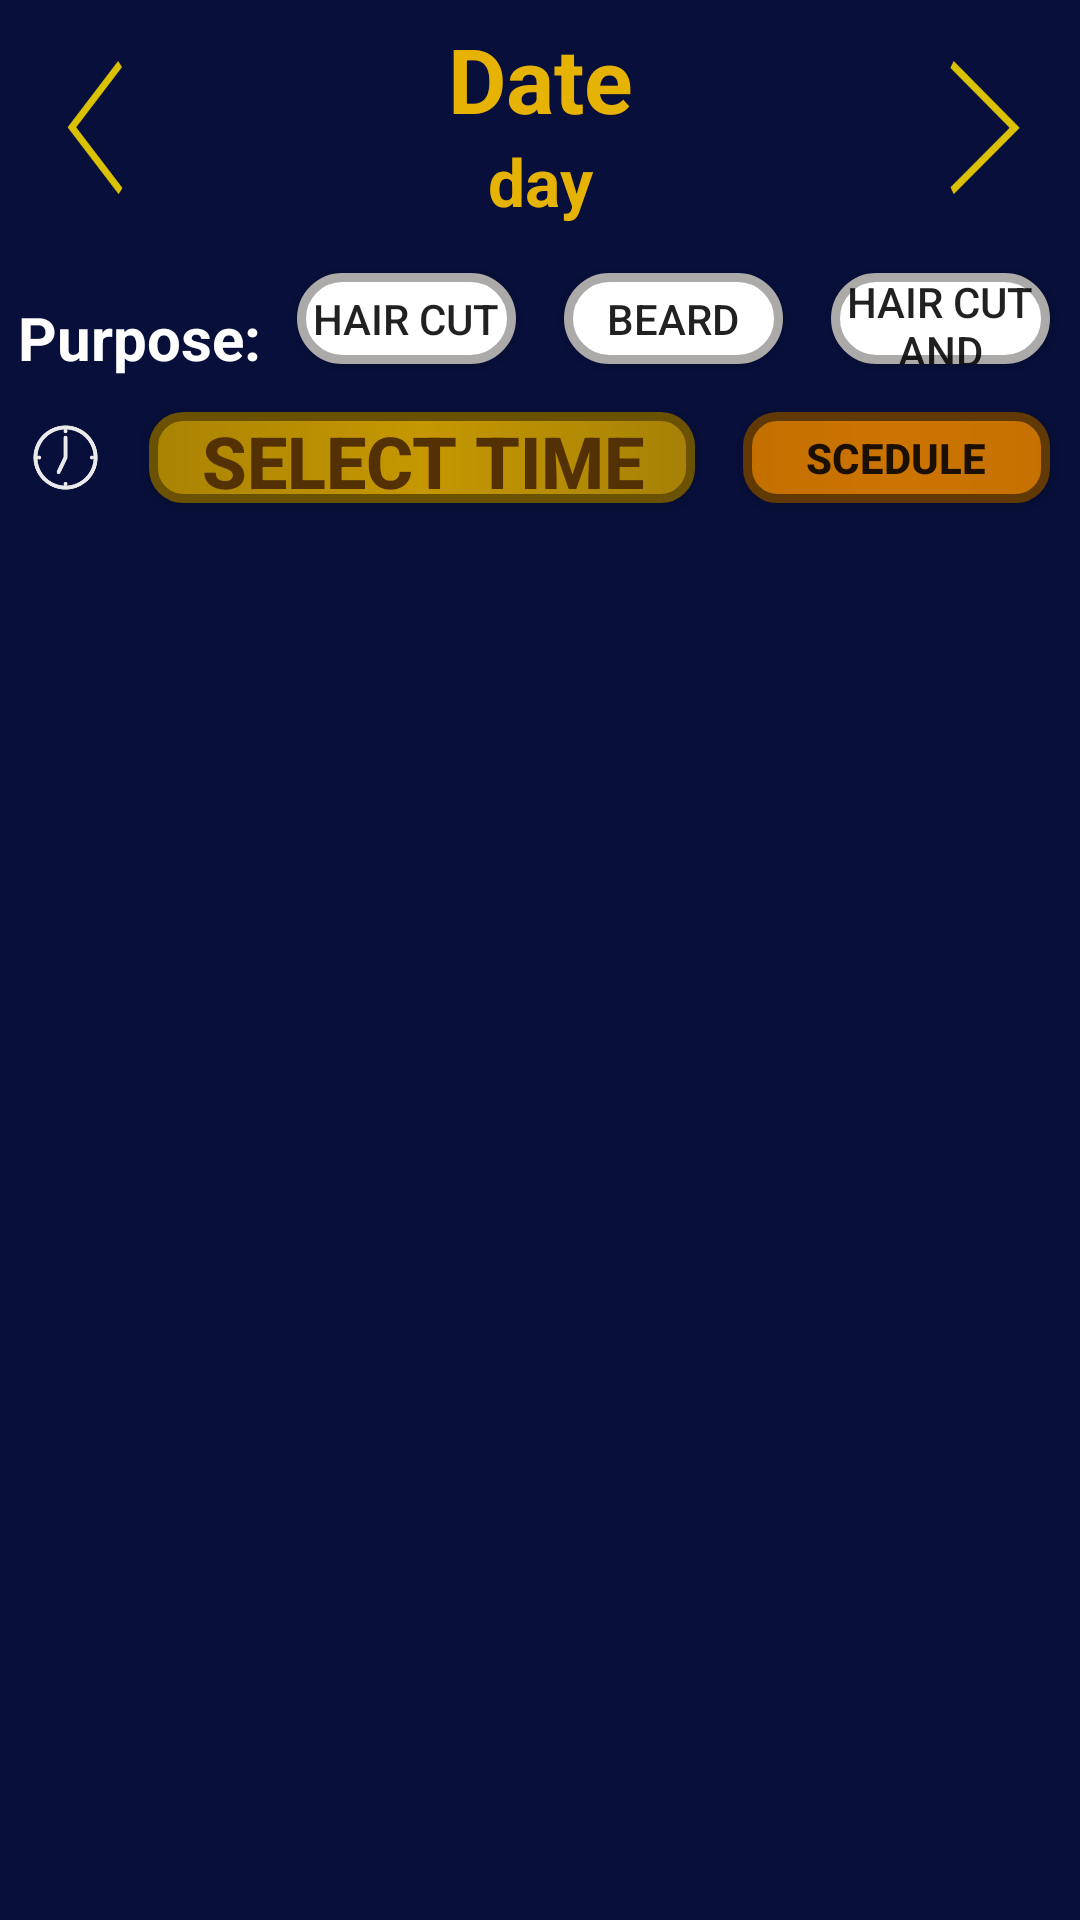

Named icons in this screenshot (1080 x 1920) and their centers, [x,y]:
forwardarrow: [985,127]
previousarrow: [95,127]
